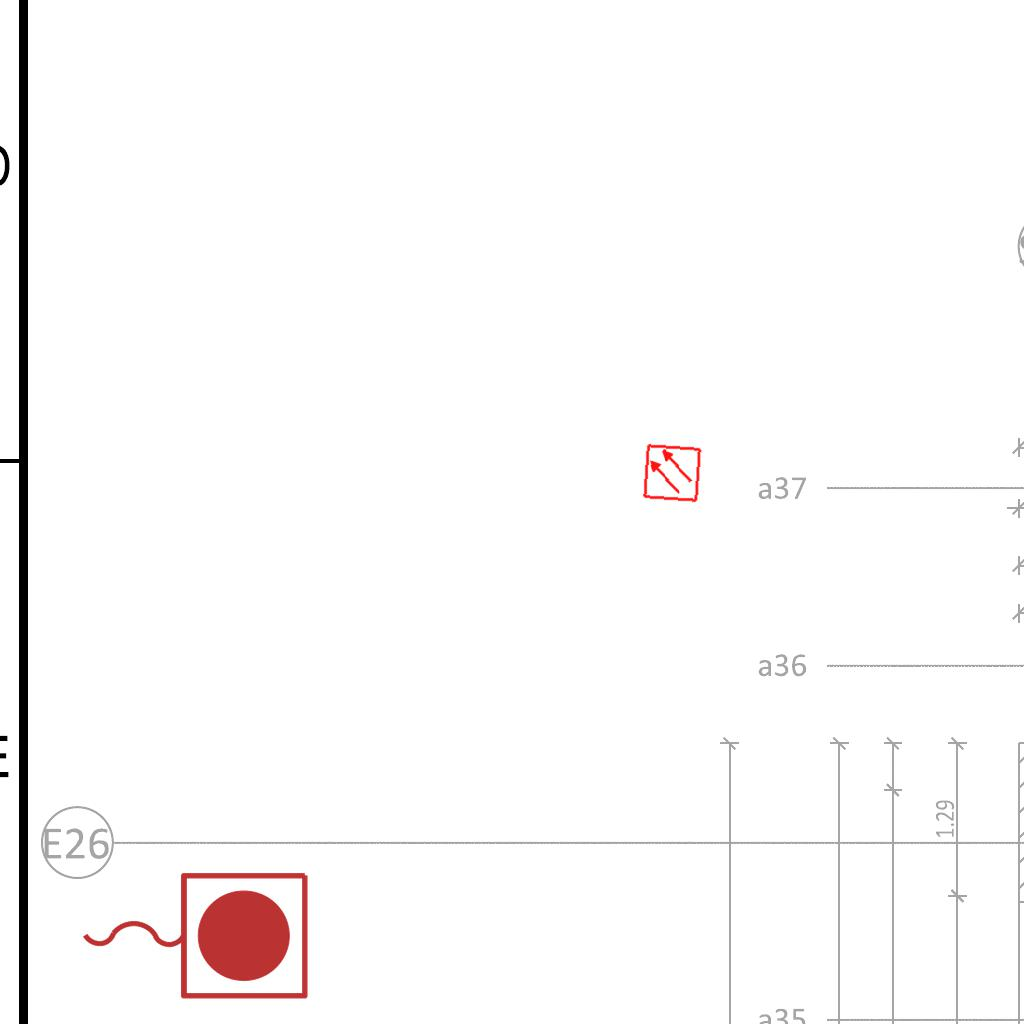RMO_Rauchmelder_optischer: (642, 443, 702, 503)
Zugtaster: (72, 862, 316, 1006)
